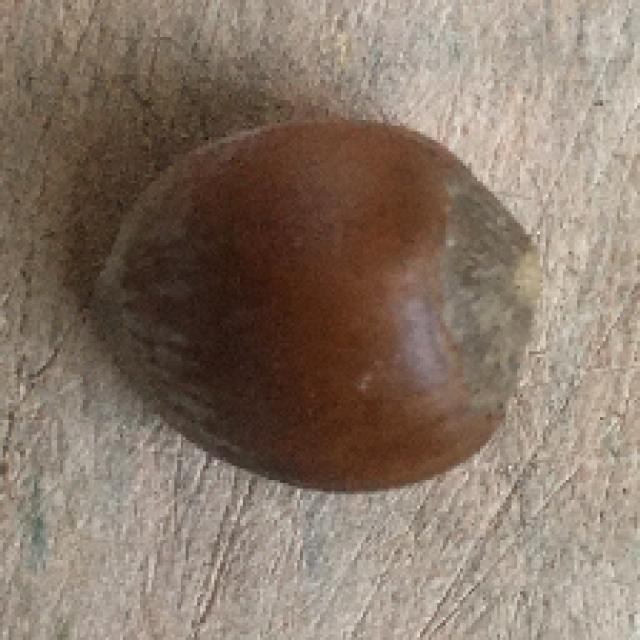qualityHazelnut: (92, 114, 553, 496)
